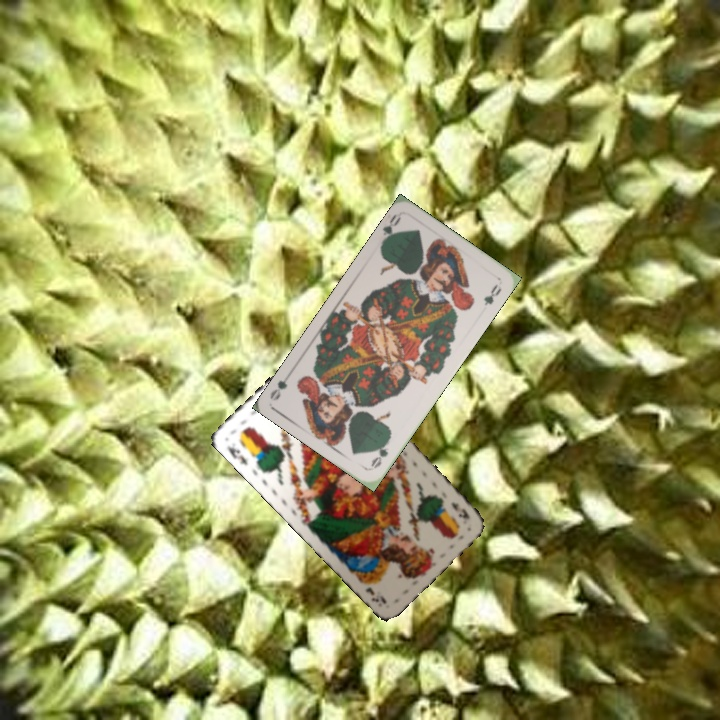EK: (223, 441, 250, 468), (447, 498, 472, 522)
GO: (377, 209, 404, 248), (367, 434, 392, 471)
